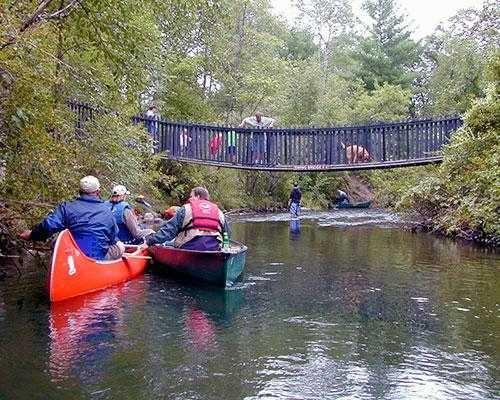kayak: (45, 229, 152, 303), (146, 238, 248, 288)
